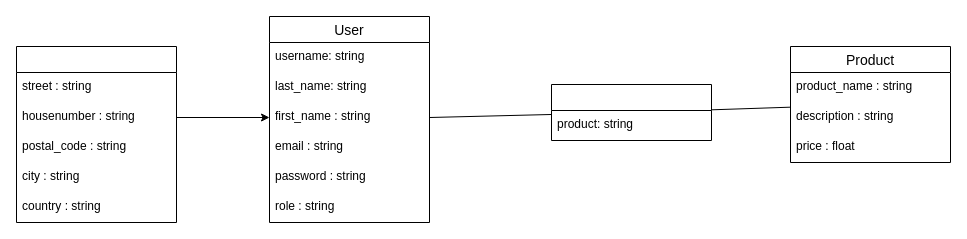
The diagram is 967 pixels wide and 239 high, and some of its shapes have lost their labels. The box of each missing label's shape, as (x1, y1, x2, y2) in pixels:
Address: (16, 46, 176, 222)
Cart: (550, 84, 712, 140)
